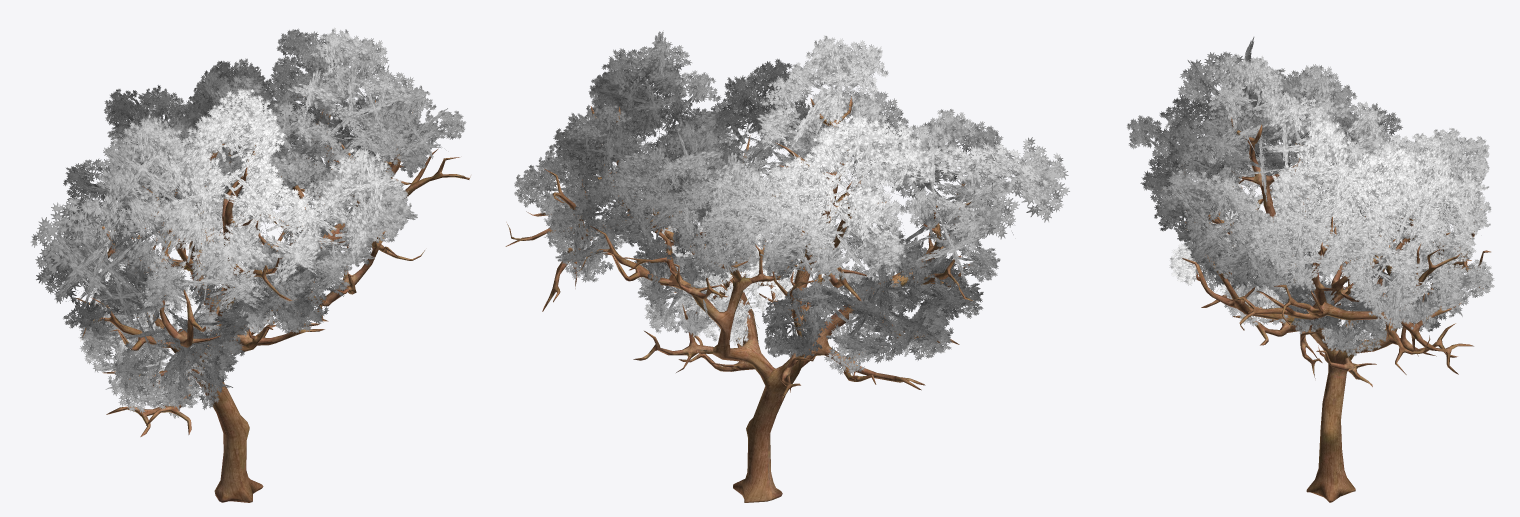
Rendered from tree_maple.glb.
3 renders of one model, left to right at view 1: azimuth 30°, elevation 25°; view 2: azimuth 150°, elevation 25°; view 3: azimuth 270°, elevation 25°, orthographic. The views are drawn at different scales.
Parts seen in each view (by area): view 1: tree_maple; view 2: tree_maple; view 3: tree_maple.
Part boxes in pixels (x1,y1,x2,y2): tree_maple: (30,27,470,502); tree_maple: (505,30,1069,502); tree_maple: (1127,37,1494,502).
Size of the model in its own units: 6.74 by 6 by 4.93.
1 material, 1 textured.
